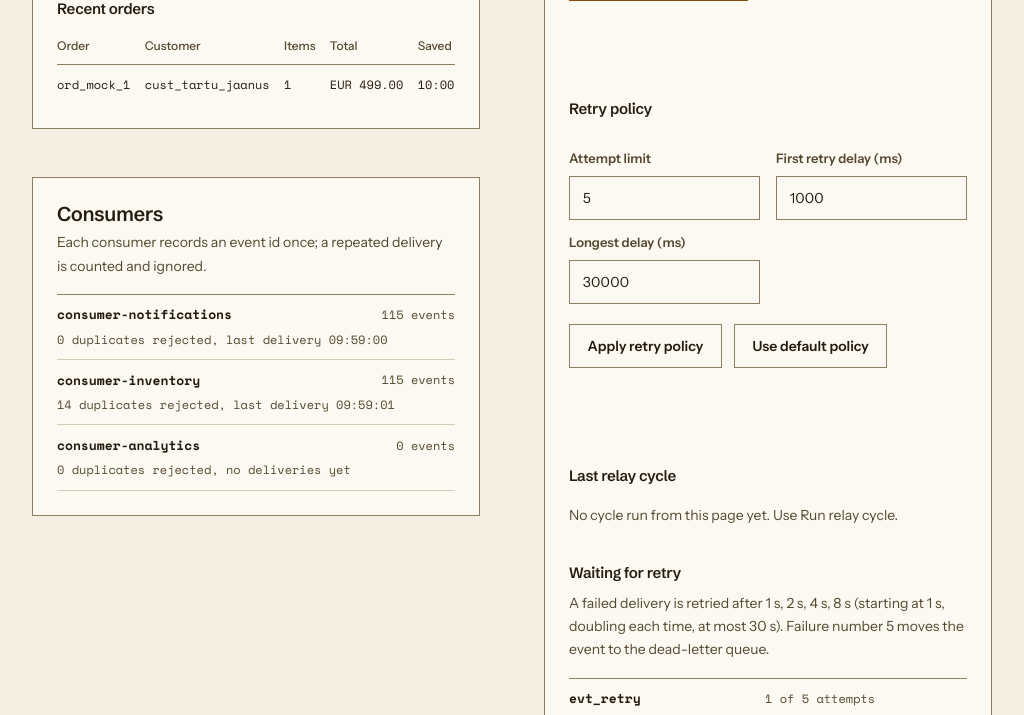
Test: OutboxRelay operations console › restores the default retry policy
(page scrolled)
Check: the number field labelled "Attempt limit" holds "5", box [569, 176, 760, 220]
Click the button "Use default policy": (811,346) [734, 324, 888, 368]
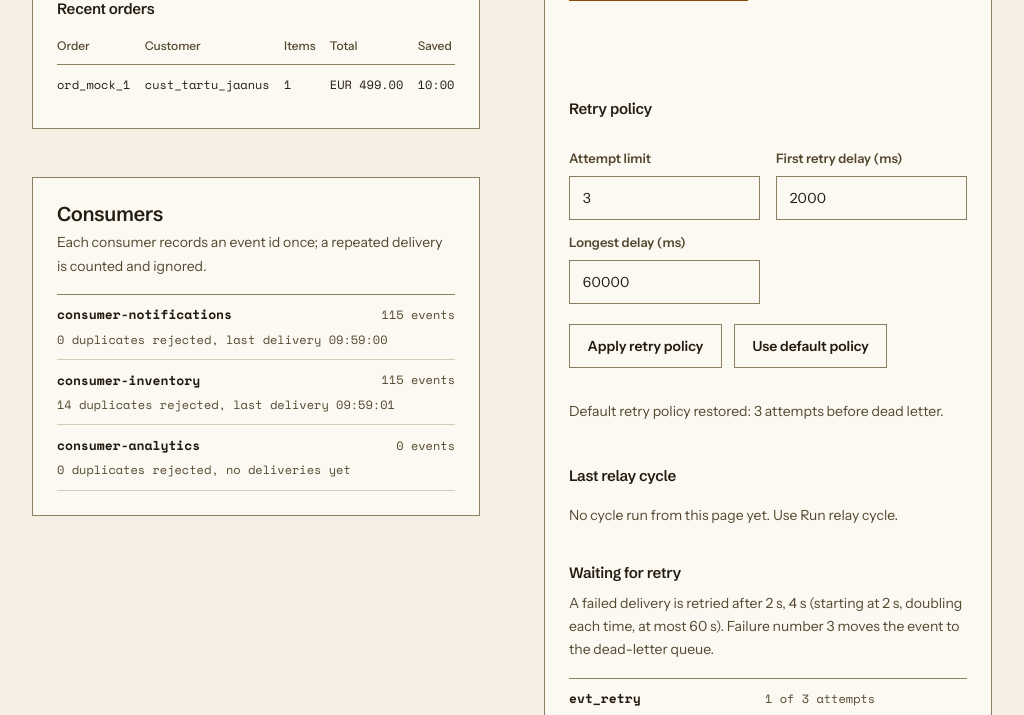
Check: the text "Default retry policy restored: 3 attempts before dead letter." is shown, box [569, 402, 944, 420]
Check: the number field labelled "Attempt limit" holds "3", box [569, 176, 760, 220]
Check: the number field labelled "First retry delay (ms)" holds "2000", box [776, 176, 967, 220]
